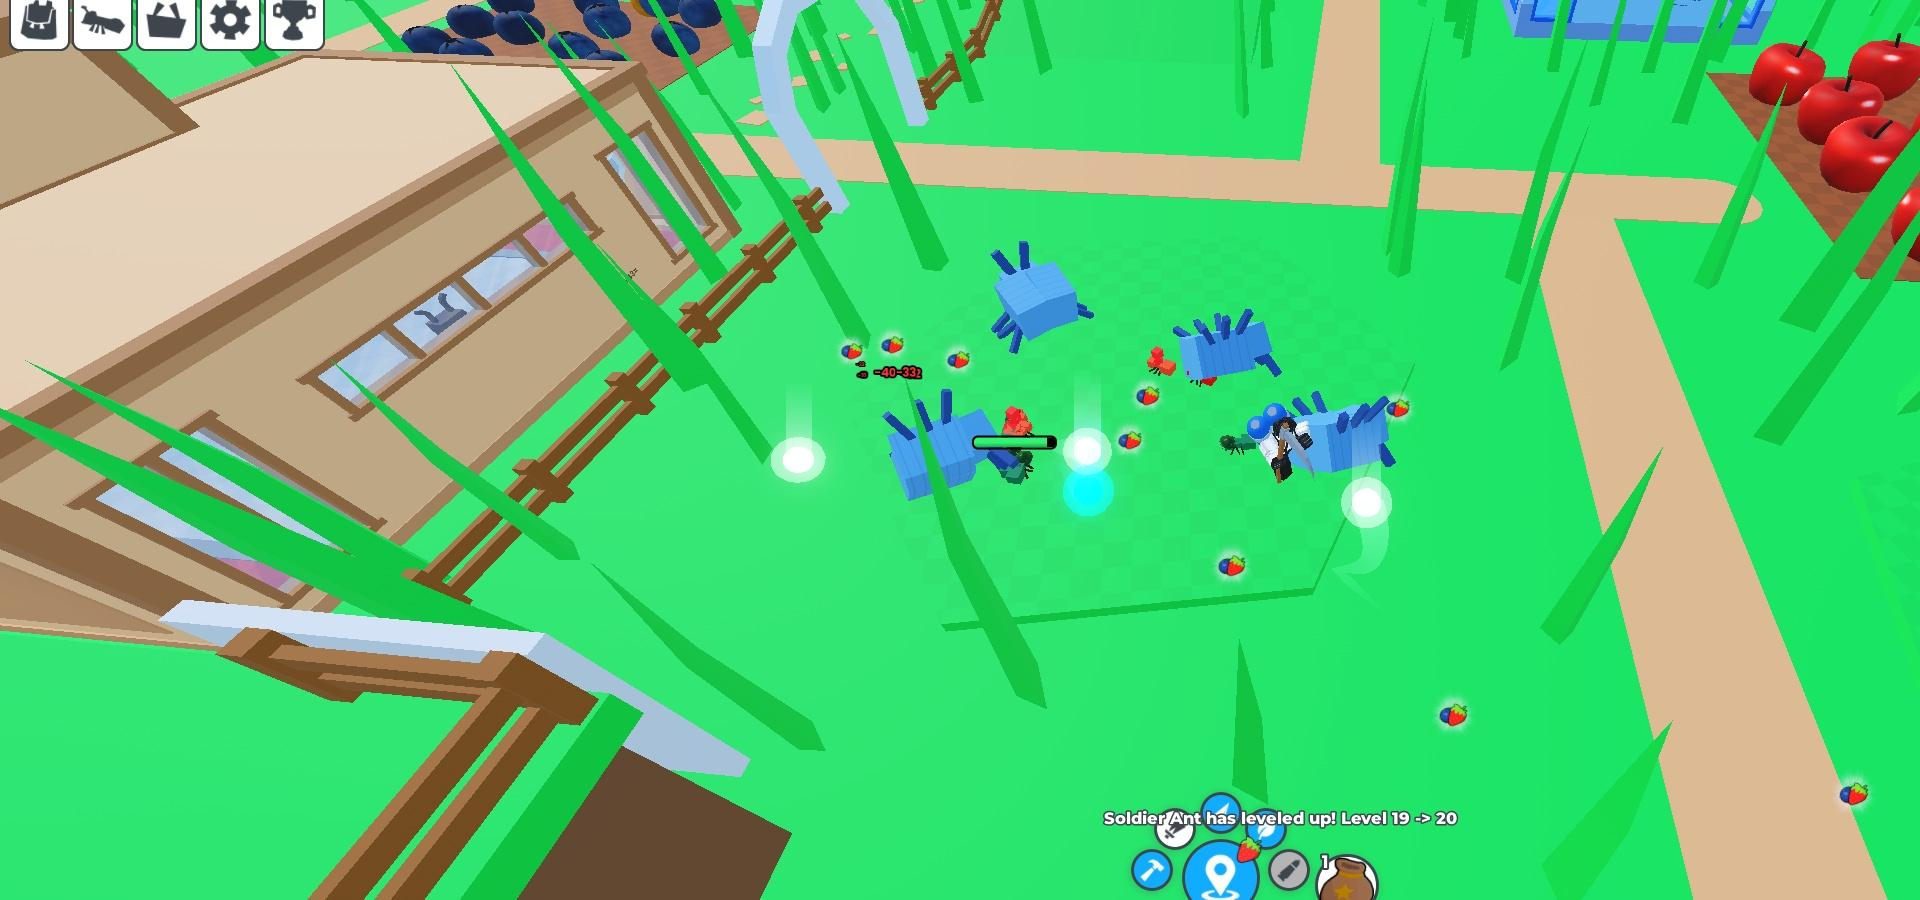Enemy: (1262, 389, 1402, 479), (1169, 305, 1281, 386), (993, 257, 1085, 348), (884, 411, 933, 501)
Mount: (1223, 405, 1315, 484)
